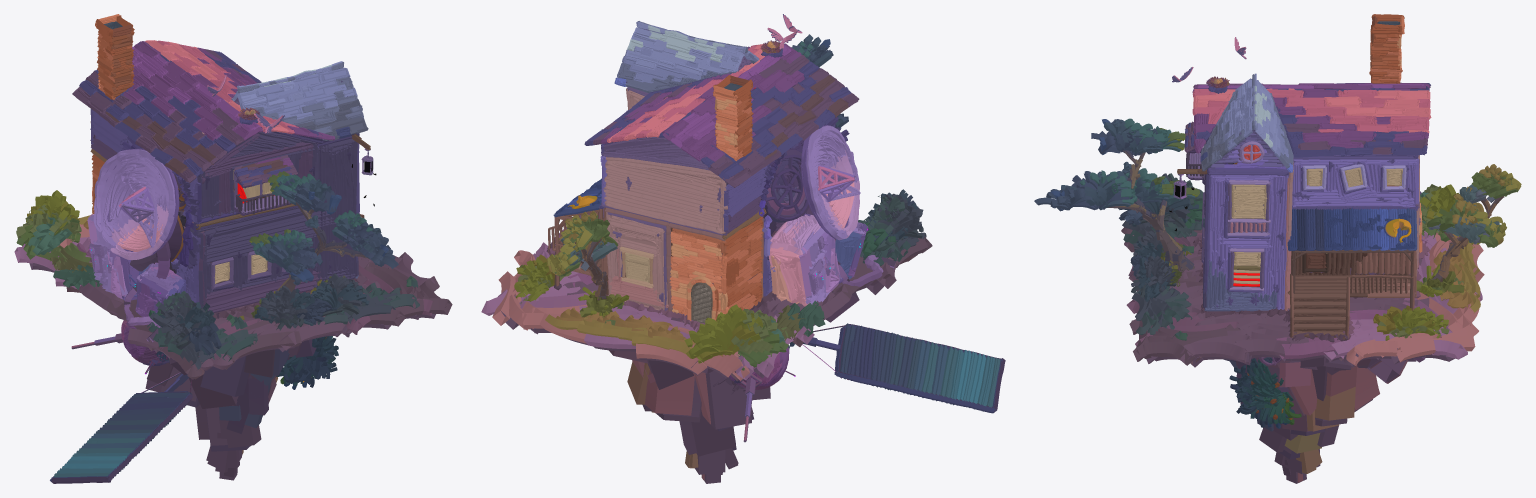
File: house-transformed.glb
3 views of the same model, side by side, from view 1: azimuth 30°, elevation 25°; view 2: azimuth 150°, elevation 25°; view 3: azimuth 270°, elevation 25° (orthographic). The views are drawn at different scales.
Visible parts, largest first — view 1: Object_4, Object_171; view 2: Object_4, Object_171; view 3: Object_4, Object_171.
Boxes of the visible parts, x1,y1,x2,y2 form: Object_4: (14, 14, 452, 483); Object_171: (91, 161, 374, 382); Object_4: (481, 14, 1005, 483); Object_171: (624, 87, 860, 282); Object_4: (1034, 14, 1521, 483); Object_171: (1174, 167, 1402, 286).
Bounding box in the file's own units: 2.6 × 2.79 × 2.87.
Materials: 5 (5 with a texture image).
